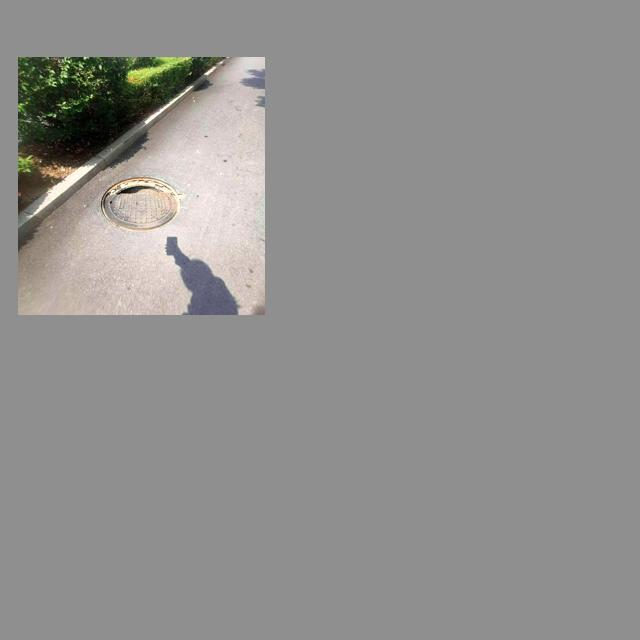broke: (102, 177, 184, 230)
